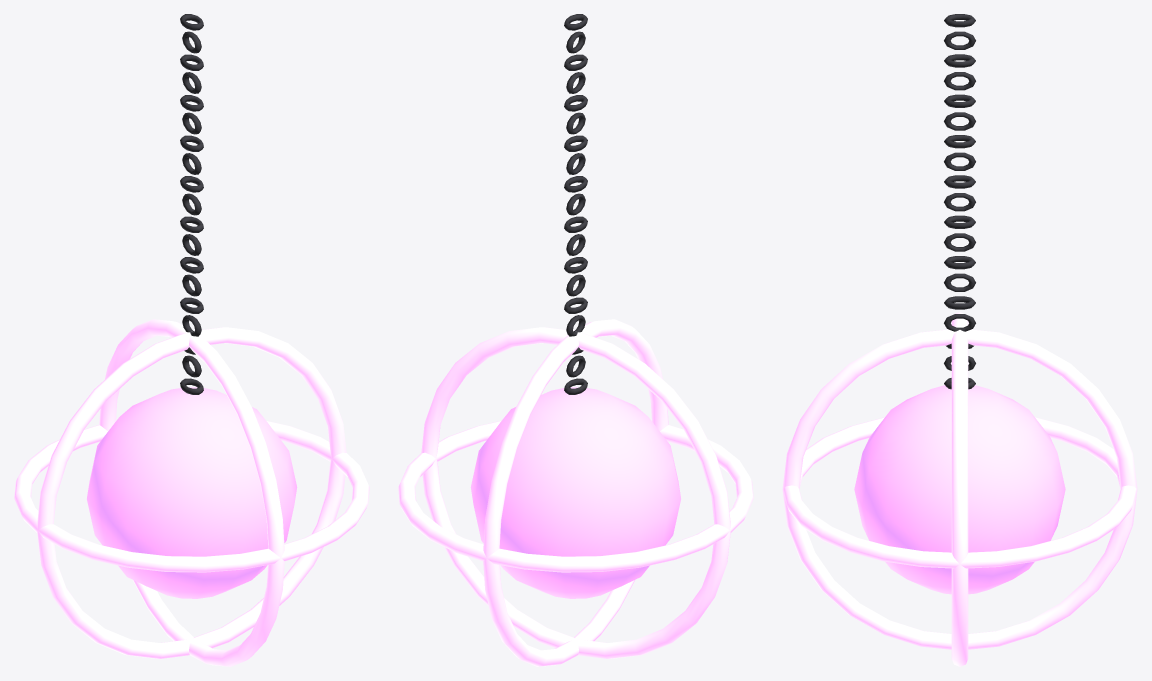
File: floating_light_rune_orb.glb
The picture shows the model from 3 angles, left to right: view 1: azimuth 30°, elevation 25°; view 2: azimuth 150°, elevation 25°; view 3: azimuth 270°, elevation 25°; orthographic projection.
Visible parts, largest first — view 1: GD_floating_light_rune_orb__m2, GD_floating_light_rune_orb__m1, GD_floating_light_rune_orb__m0; view 2: GD_floating_light_rune_orb__m2, GD_floating_light_rune_orb__m1, GD_floating_light_rune_orb__m0; view 3: GD_floating_light_rune_orb__m2, GD_floating_light_rune_orb__m1, GD_floating_light_rune_orb__m0.
Part boxes in pixels (left/top/right/bottom): GD_floating_light_rune_orb__m2: left=14, top=319, right=369, bottom=666; GD_floating_light_rune_orb__m1: left=87, top=387, right=297, bottom=598; GD_floating_light_rune_orb__m0: left=180, top=14, right=203, bottom=394; GD_floating_light_rune_orb__m2: left=398, top=319, right=753, bottom=666; GD_floating_light_rune_orb__m1: left=470, top=387, right=680, bottom=598; GD_floating_light_rune_orb__m0: left=564, top=14, right=587, bottom=394; GD_floating_light_rune_orb__m2: left=782, top=312, right=1137, bottom=666; GD_floating_light_rune_orb__m1: left=854, top=385, right=1065, bottom=594; GD_floating_light_rune_orb__m0: left=944, top=14, right=975, bottom=389.
Size of the model in its own units: 0.336 by 0.6607 by 0.336.
